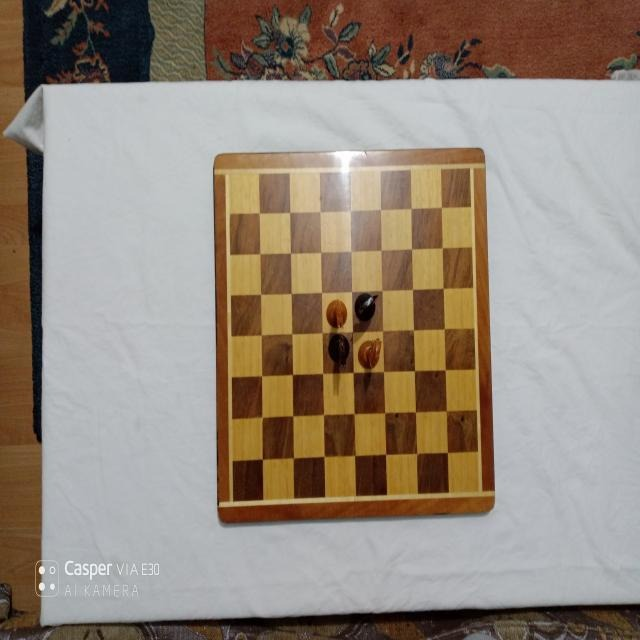black-knight: (327, 332, 349, 368), (353, 291, 378, 321)
white-knight: (358, 335, 382, 370), (326, 298, 348, 330)
